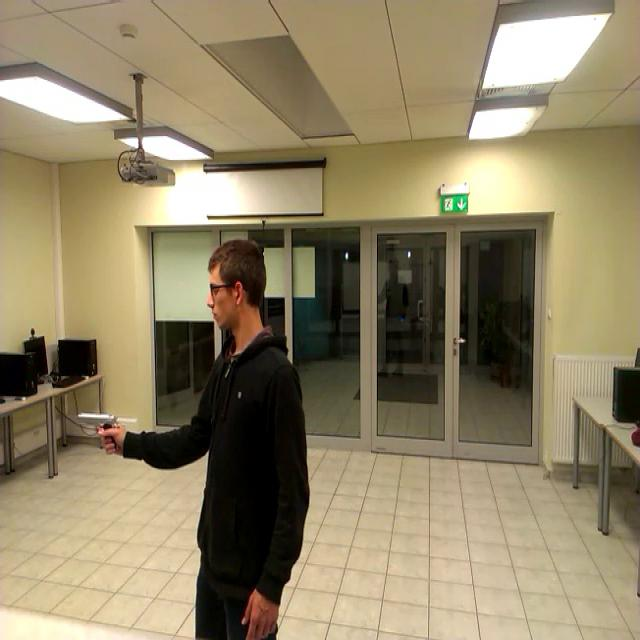handgun: (68, 405, 133, 463)
